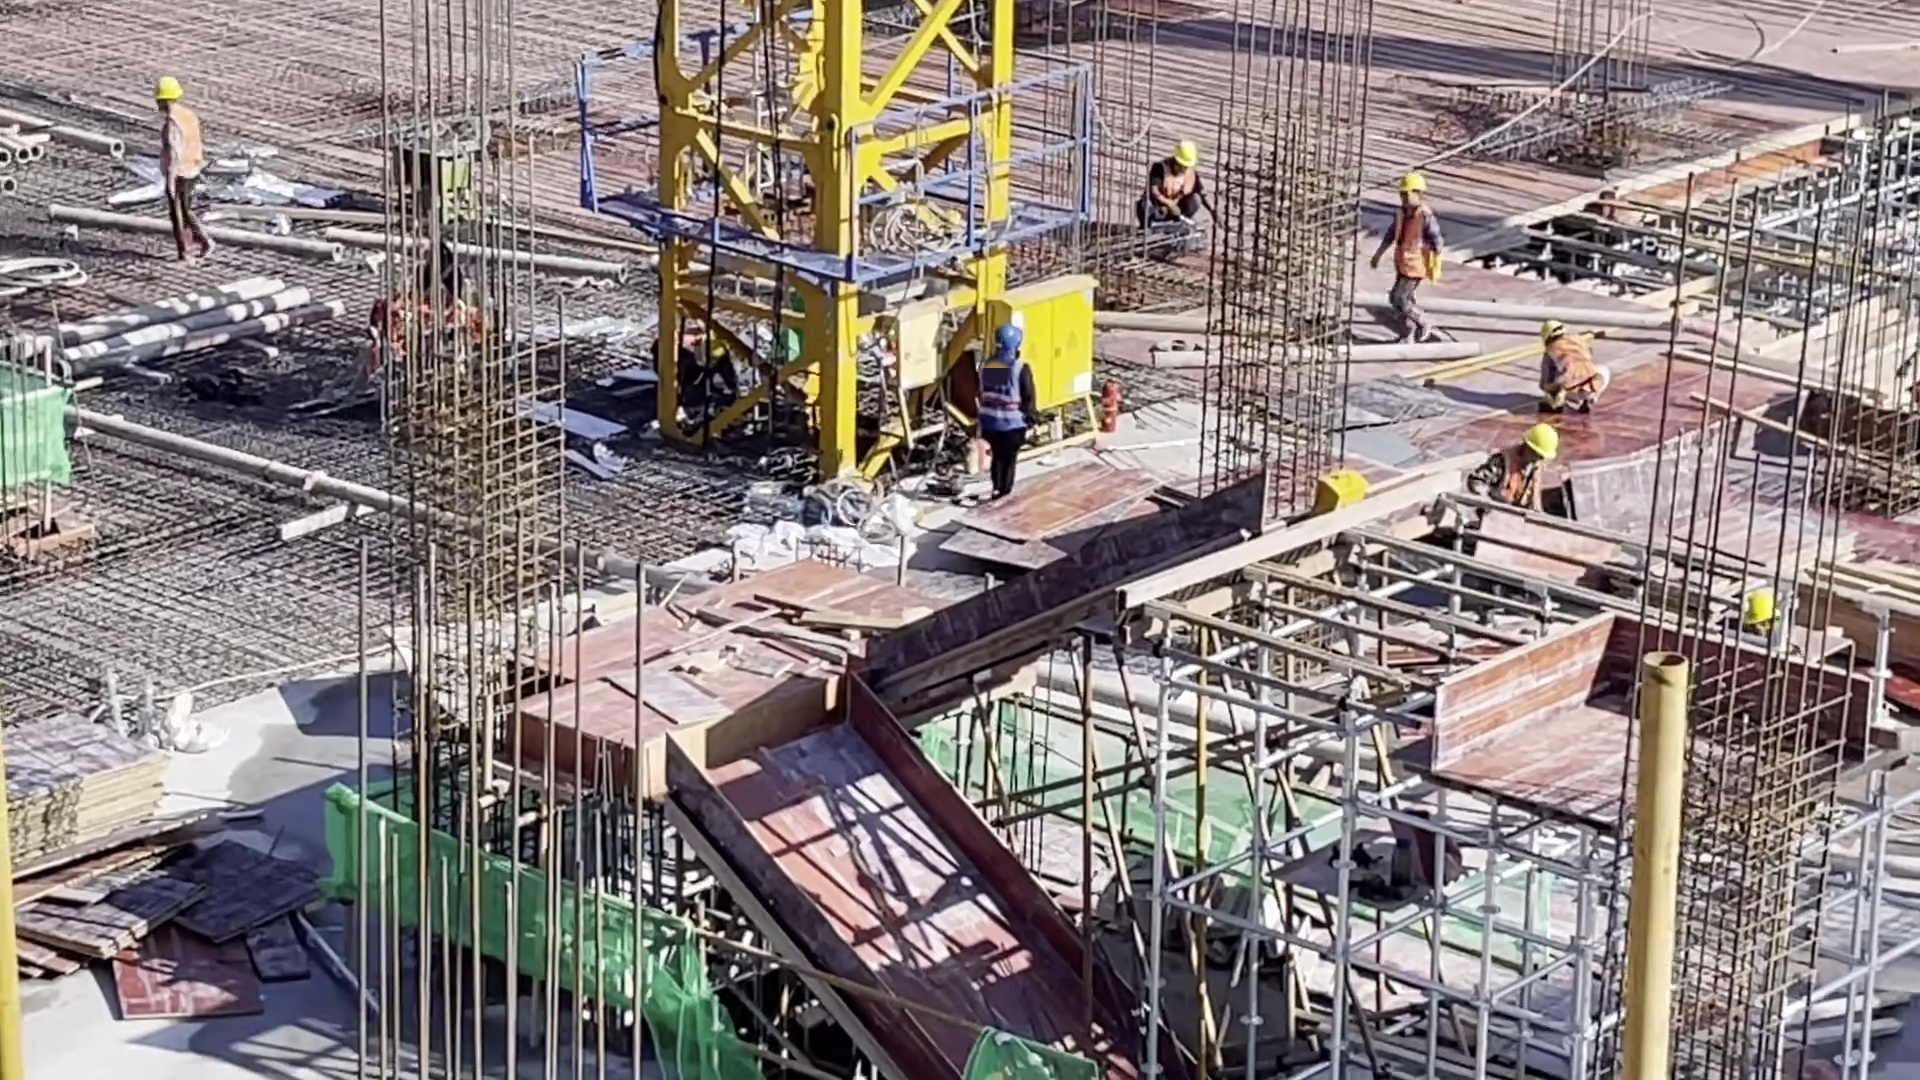helmet: (990, 319, 1038, 348), (1523, 424, 1561, 460), (1745, 594, 1780, 625), (1539, 321, 1572, 351), (1174, 142, 1201, 175), (149, 72, 184, 98), (1396, 170, 1432, 190)
person: (136, 75, 217, 260), (967, 318, 1044, 498), (1376, 166, 1449, 344), (1460, 420, 1564, 524), (1130, 146, 1214, 237), (1535, 320, 1611, 419)
vest: (969, 351, 1033, 441), (1382, 212, 1440, 294), (1140, 164, 1197, 233), (165, 106, 206, 181), (1545, 343, 1595, 396), (1487, 450, 1528, 511)
